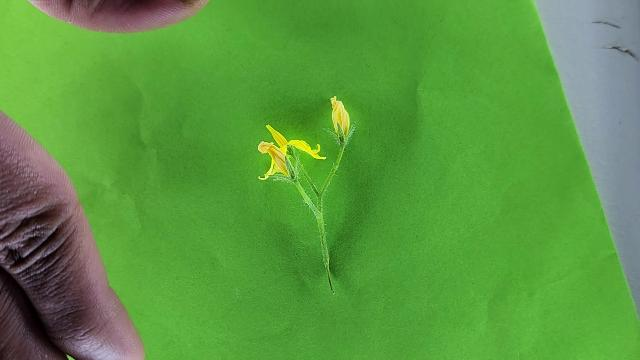Anthesis: (256, 123, 324, 180), (329, 95, 351, 142)
